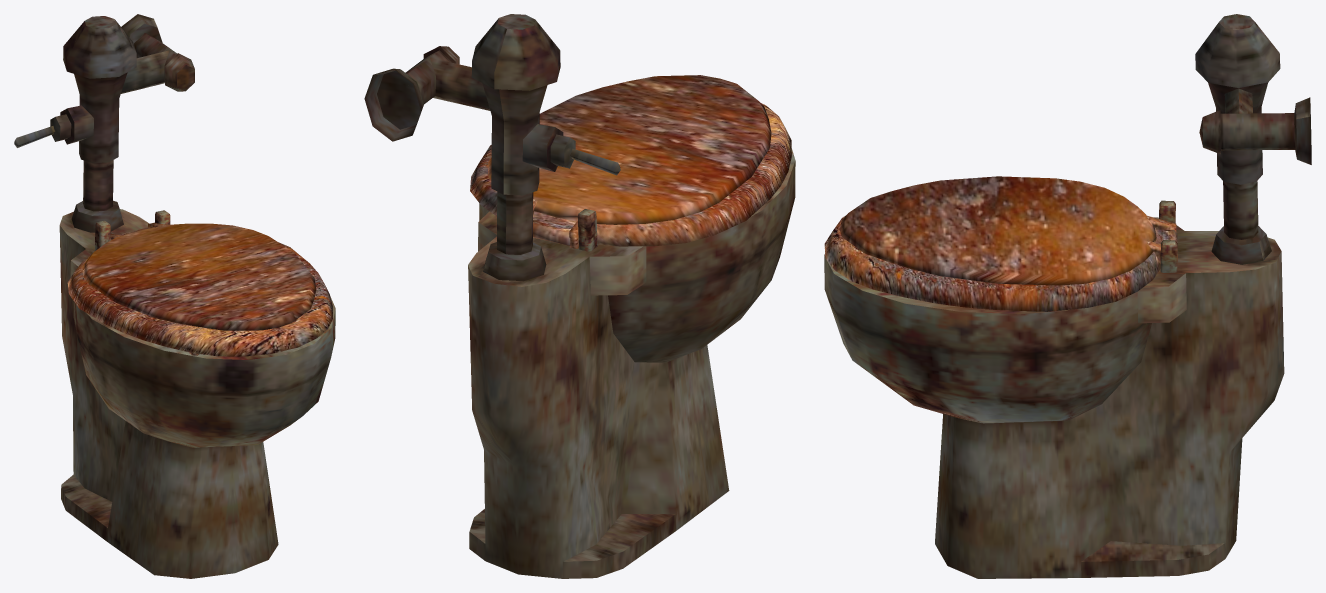
File: silent_hill_dirty_toilet_with_seat_and_lid.glb
The picture shows the model from 3 angles, left to right: view 1: azimuth 30°, elevation 25°; view 2: azimuth 150°, elevation 25°; view 3: azimuth 270°, elevation 25°; orthographic projection. The views are drawn at different scales.
Parts seen in each view (by area): view 1: s4studio_mesh_1.036, ToiletCheap.001, ToiletCheap.003; view 2: s4studio_mesh_1.036, ToiletCheap.001, ToiletCheap.003, ToiletCheap.004; view 3: s4studio_mesh_1.036, ToiletCheap.001, ToiletCheap.003.
Boxes of the visible parts, x1,y1,x2,y2 form: s4studio_mesh_1.036: [14, 14, 335, 578]; ToiletCheap.001: [82, 222, 315, 330]; ToiletCheap.003: [67, 227, 332, 356]; s4studio_mesh_1.036: [364, 14, 795, 578]; ToiletCheap.001: [487, 75, 771, 248]; ToiletCheap.003: [470, 103, 791, 246]; ToiletCheap.004: [577, 209, 597, 251]; s4studio_mesh_1.036: [824, 14, 1311, 578]; ToiletCheap.001: [839, 176, 1176, 285]; ToiletCheap.003: [824, 216, 1177, 311].
Size of the model in its own units: 0.4157 by 0.8396 by 0.7125.
4 materials, 4 textured.
